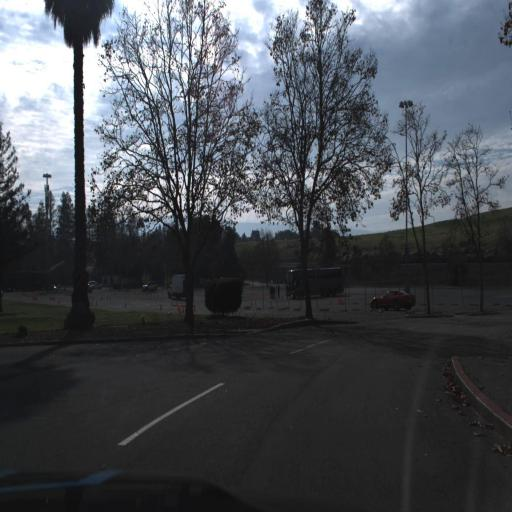car: (366, 284, 413, 312), (137, 276, 158, 294)
truck: (284, 263, 345, 301), (166, 270, 195, 300)
